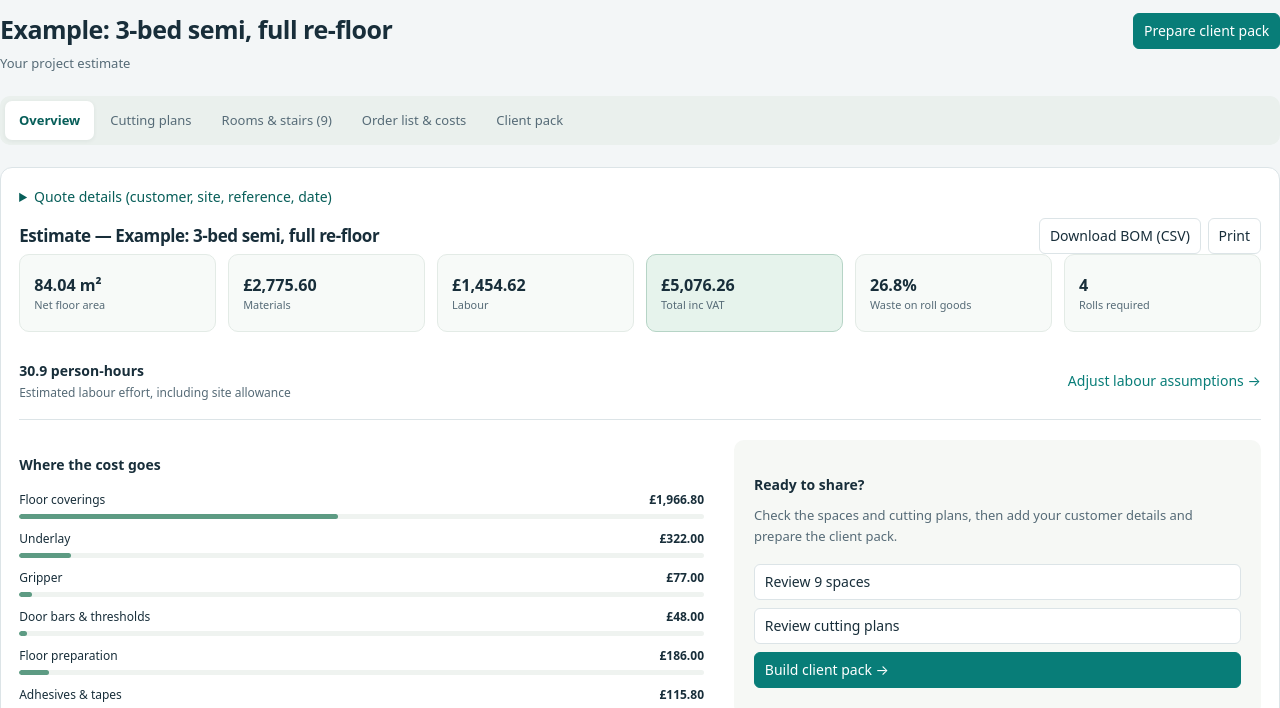
Test: ResultsPanel (expanded) › renders a card per room and per staircase, and the bill of materials with its totals
Click the button "Rooms & stairs (9)" at (277, 120), box [208,101,346,140]
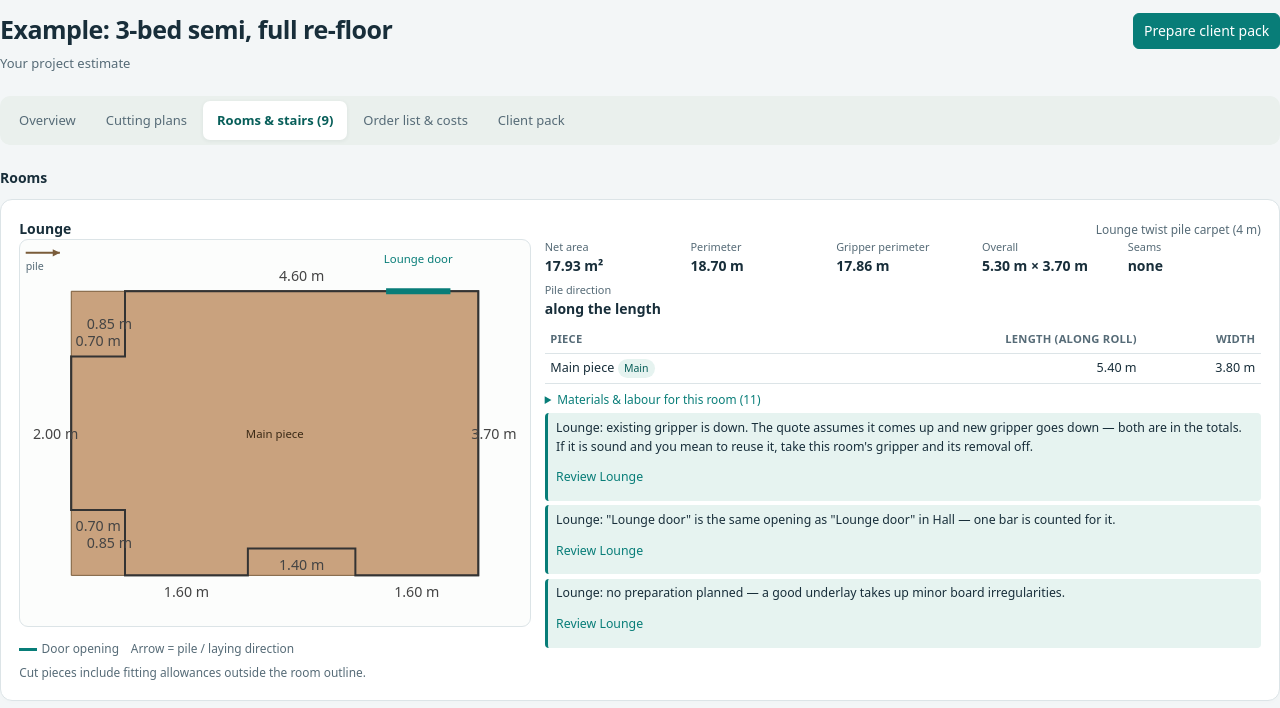
Result: the text with test id "room-net-area" shows "m²" at [545,256,603,275]
Click the button "Order list & costs" at (416, 120), box [349,101,482,140]
(page scrolled)
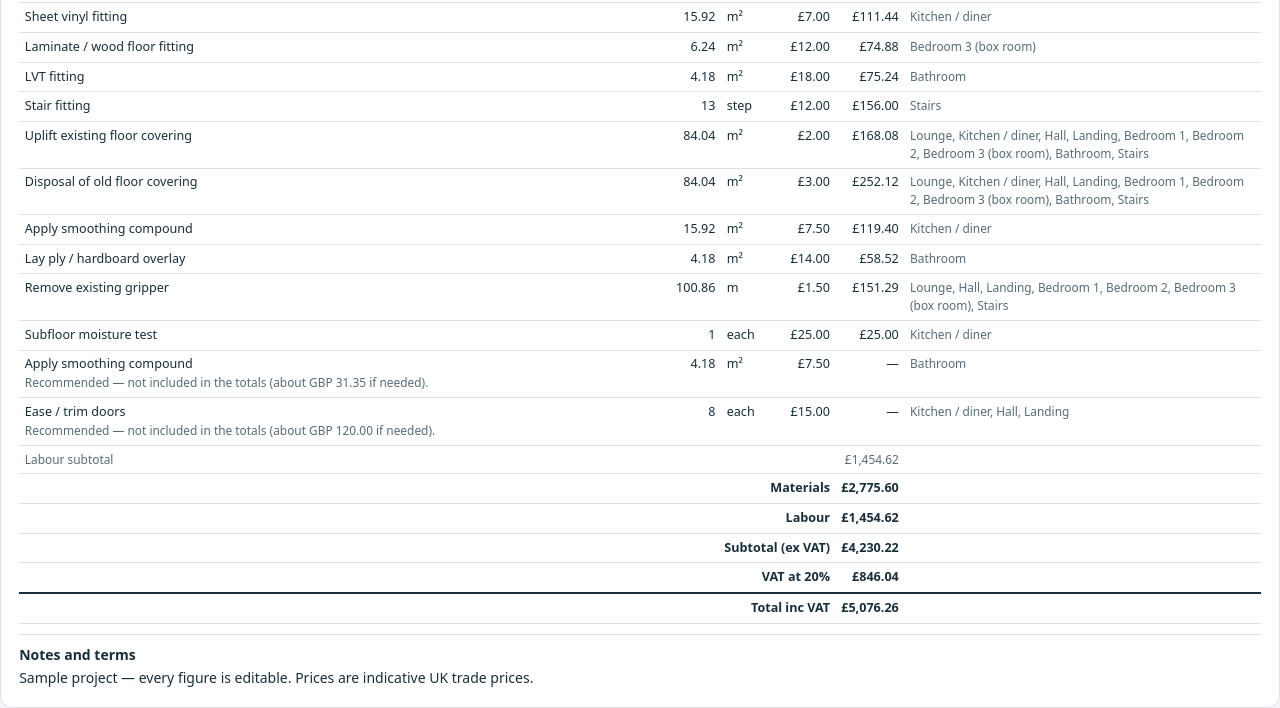
Result: the row with test id "bom-grand-total" shows "£5,076.26" at [841,599,899,616]
